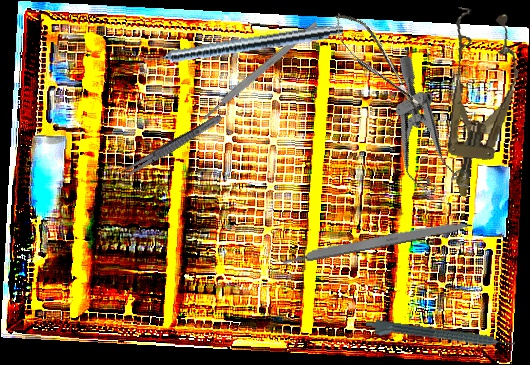Dressing Forceps: (115, 111, 225, 184)
Handpiece: (132, 18, 345, 71), (364, 317, 516, 357)
Micro Scissor: (326, 4, 432, 124)
Scalpel Handle: (200, 20, 320, 122), (281, 216, 473, 267)
Speculum: (354, 53, 482, 212), (426, 6, 528, 202)
